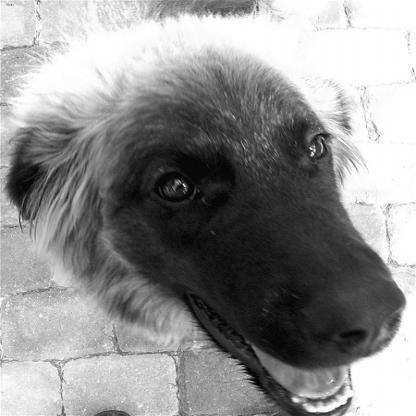Leonberger: (7, 12, 415, 415)
